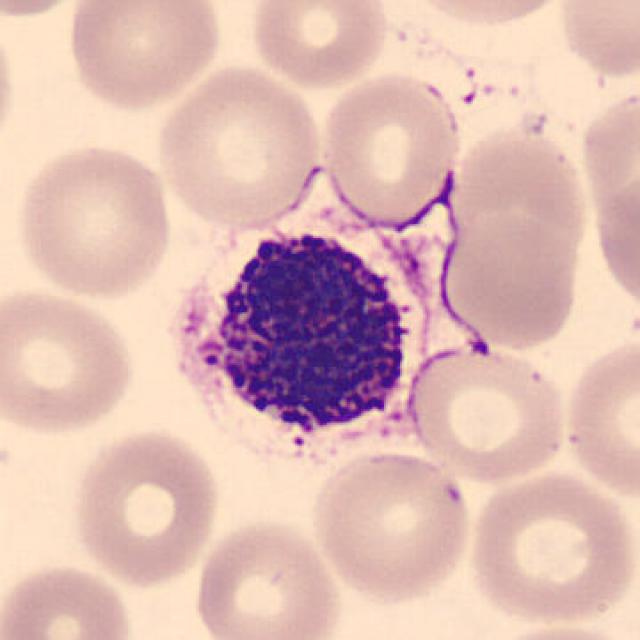Basophil: (151, 210, 439, 476)
RBC: (151, 60, 327, 227), (437, 113, 594, 300), (462, 466, 638, 628), (308, 446, 477, 607), (11, 140, 176, 304), (68, 425, 226, 589), (400, 338, 574, 485), (315, 67, 464, 229), (434, 206, 585, 354), (0, 282, 140, 439), (190, 515, 345, 640), (62, 0, 228, 113), (574, 81, 640, 303), (558, 332, 640, 502), (245, 0, 395, 90), (0, 557, 137, 640), (590, 170, 638, 318), (553, 0, 638, 81), (398, 0, 574, 32), (0, 9, 21, 164), (480, 622, 635, 640), (0, 0, 99, 19)
